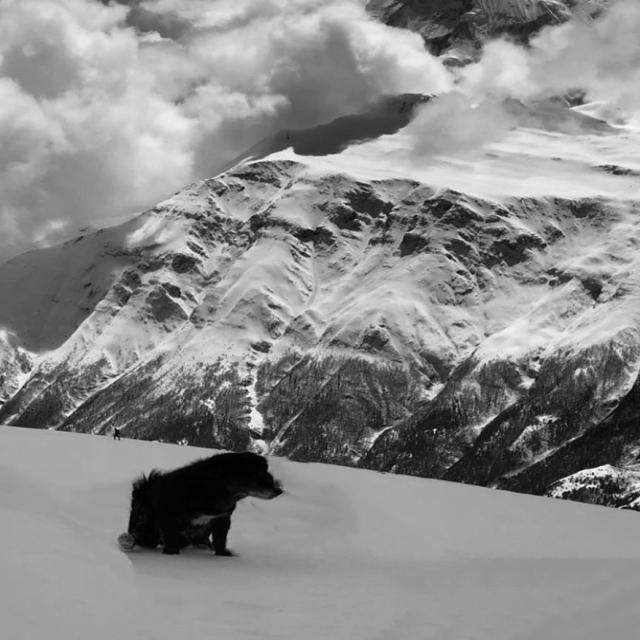squatting: (117, 446, 288, 564)
